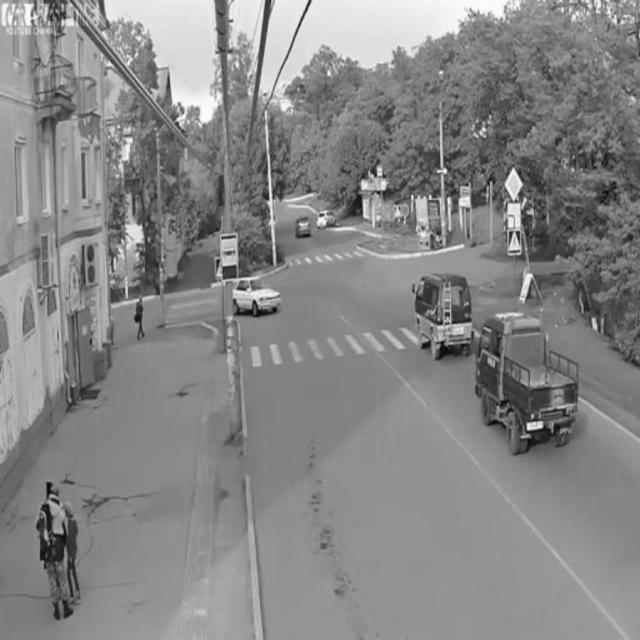person: (35, 479, 76, 623), (61, 501, 85, 599), (130, 294, 150, 345)
vehicle: (474, 316, 582, 456), (409, 270, 476, 362), (224, 273, 285, 321), (293, 212, 313, 242), (314, 209, 340, 229)
